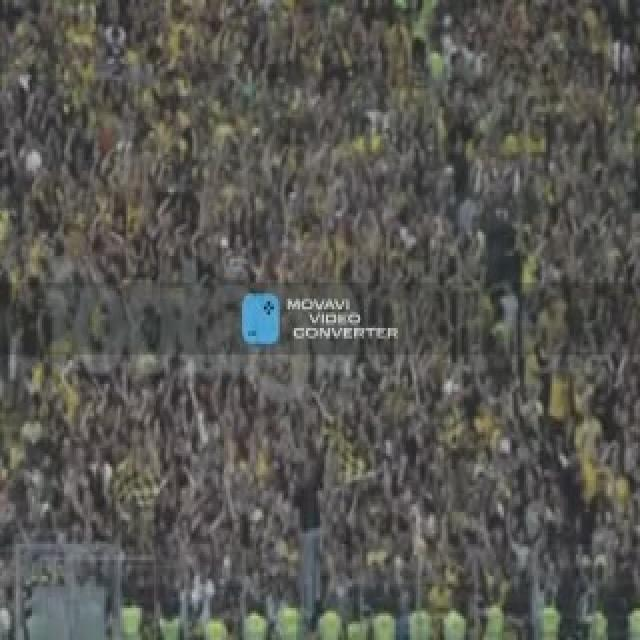non-voilence: (0, 0, 638, 637), (284, 293, 400, 344), (238, 288, 280, 344)
